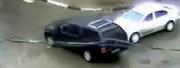car-accident: (44, 8, 168, 60)
